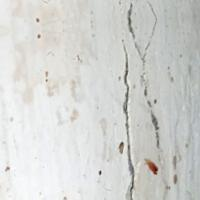crack: (102, 0, 159, 199)
